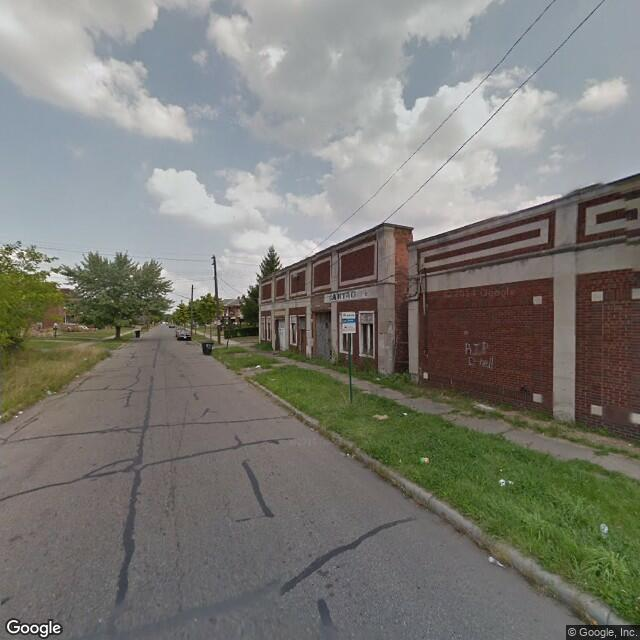litter: (486, 553, 504, 569), (597, 521, 609, 535), (499, 478, 514, 488), (420, 454, 430, 464), (13, 413, 19, 419), (402, 410, 409, 415), (46, 388, 52, 392), (256, 363, 261, 367), (19, 409, 21, 410)
